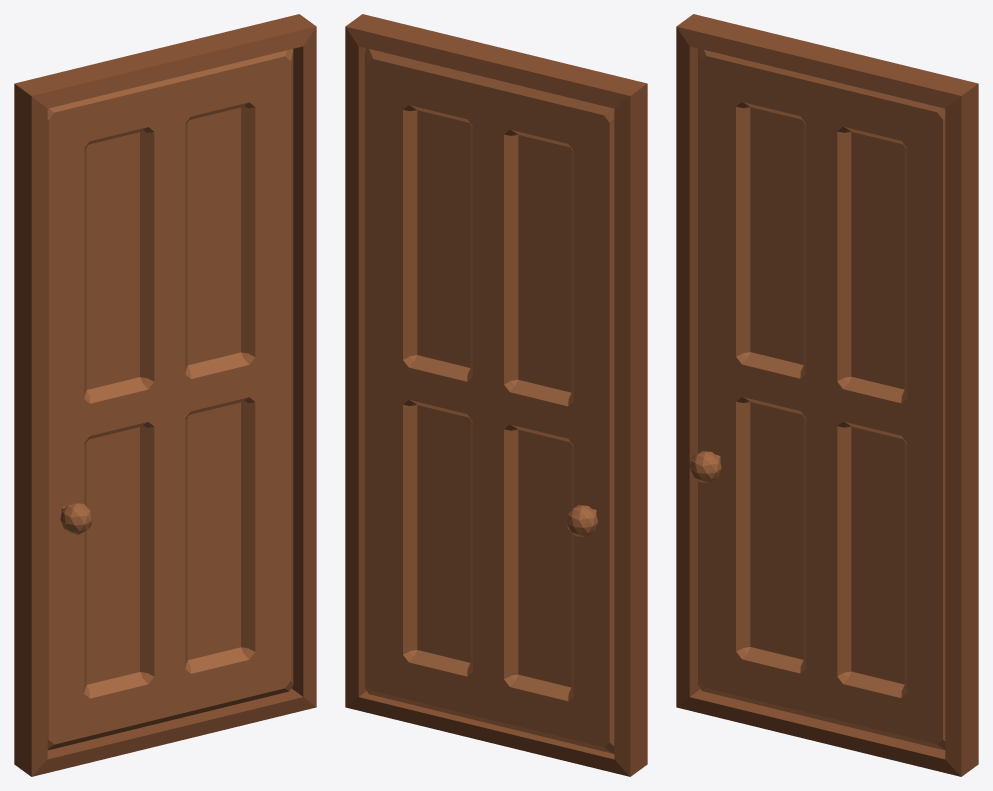
3 views of the same model, side by side, from view 1: azimuth 30°, elevation 25°; view 2: azimuth 150°, elevation 25°; view 3: azimuth 330°, elevation 25° (orthographic).
Parts seen in each view (by area): view 1: Door B, Door B.001; view 2: Door B, Door B.001; view 3: Door B, Door B.001.
Boxes of the visible parts, <box> form: Door B: <box>47,49,293,750</box>; Door B.001: <box>14,14,316,776</box>; Door B: <box>365,48,614,753</box>; Door B.001: <box>345,14,647,776</box>; Door B: <box>689,48,945,750</box>; Door B.001: <box>676,14,978,776</box>.
Bounding box in the file's own units: 4.48 × 10.22 × 1.44.
